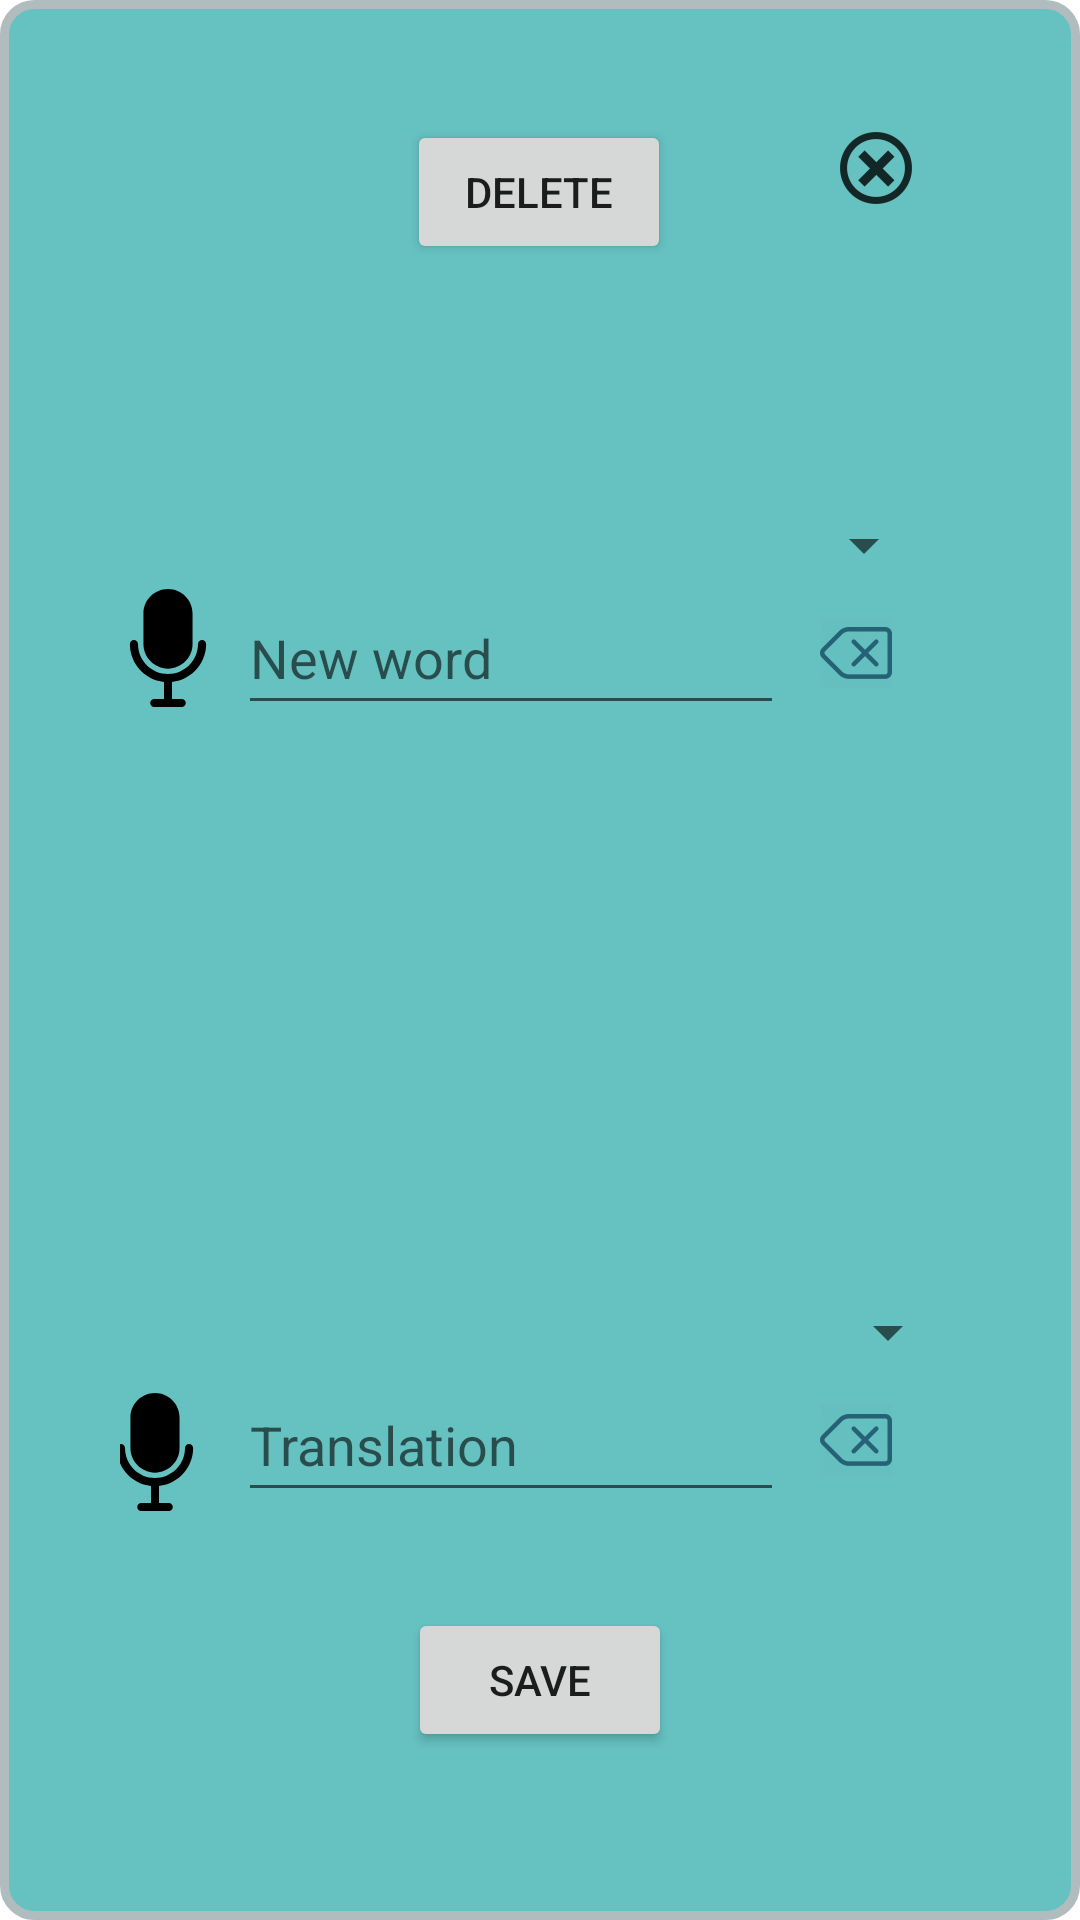

Named icons in this screenshot (1080*1920) and their bounding boxes, (x1, y1, x2, y2):
close: (840, 132, 912, 204)
delete text word: (820, 627, 892, 679)
